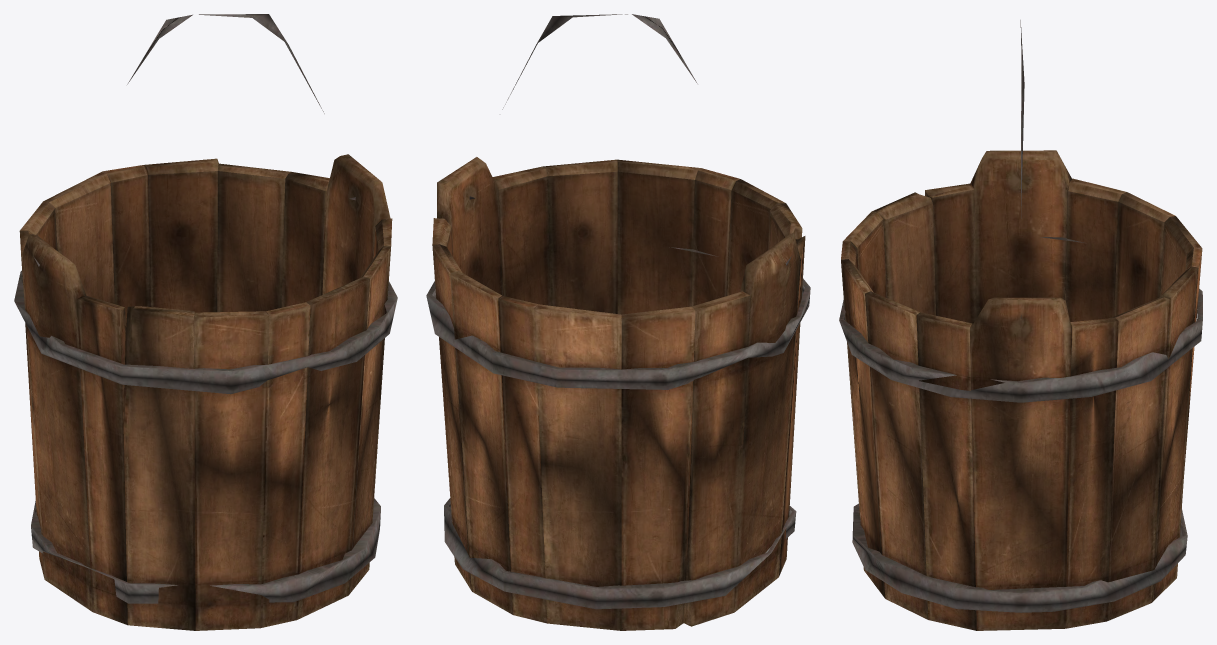
Rendered from bucket-lod.glb.
The picture shows the model from 3 angles, left to right: view 1: azimuth 30°, elevation 25°; view 2: azimuth 150°, elevation 25°; view 3: azimuth 270°, elevation 25°; orthographic projection. The views are drawn at different scales.
Parts seen in each view (by area): view 1: wooden_bucket_01, wooden_bucket_01_handle; view 2: wooden_bucket_01, wooden_bucket_01_handle; view 3: wooden_bucket_01.
Boxes of the visible parts, bbox=[...] form: wooden_bucket_01: bbox=[14, 154, 397, 630]; wooden_bucket_01_handle: bbox=[34, 14, 355, 266]; wooden_bucket_01: bbox=[426, 157, 810, 630]; wooden_bucket_01_handle: bbox=[469, 14, 792, 265]; wooden_bucket_01: bbox=[839, 150, 1202, 630].
Size of the model in its own units: 0.3511 by 0.5416 by 0.3343.
1 material, 1 textured.
